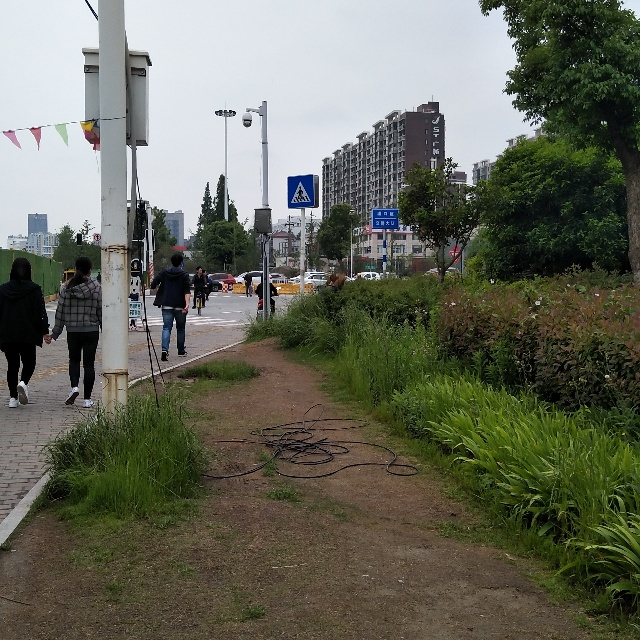crosswalk: (287, 177, 313, 207)
